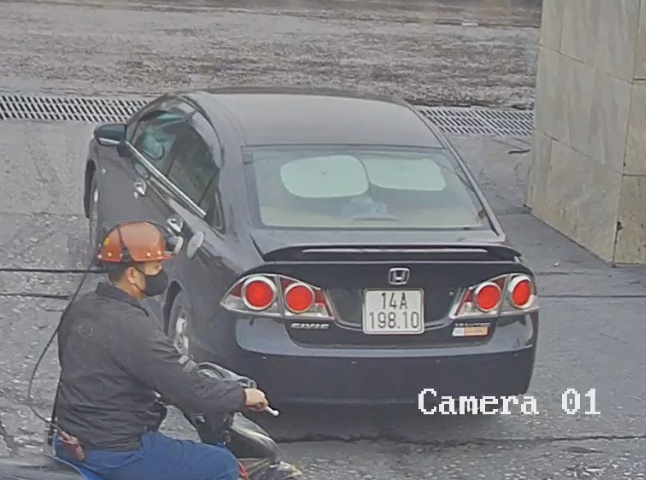vehicle plate: (362, 283, 424, 335)
